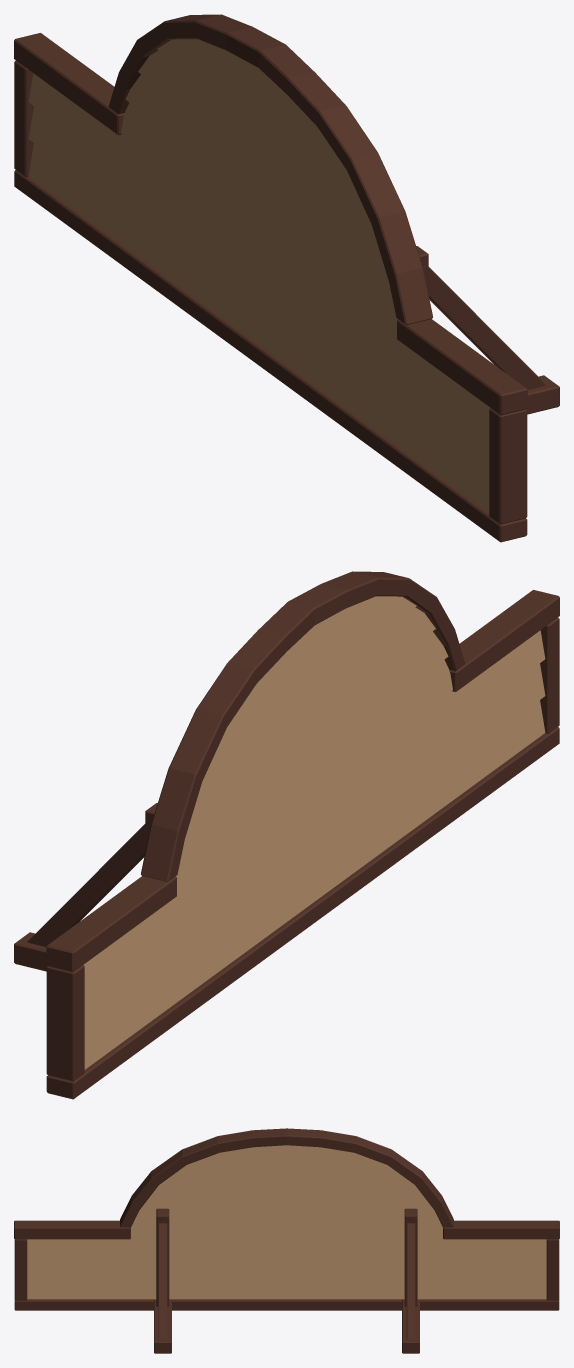
File: sign-b.glb
3 renders of one model, top to bottom at view 1: azimuth 30°, elevation 25°; view 2: azimuth 150°, elevation 25°; view 3: azimuth 270°, elevation 25°, orthographic. The views are drawn at different scales.
Visible parts, largest first — view 1: Sign B (×2); view 2: Sign B (×2); view 3: Sign B (×2).
Part boxes in pixels (x1,y1,x2,y2): Sign B (×2): (14, 14, 559, 542); Sign B (×2): (14, 571, 559, 1099); Sign B (×2): (14, 1128, 559, 1353).
Size of the model in its own units: 1.45 by 2.35 by 6.6.
